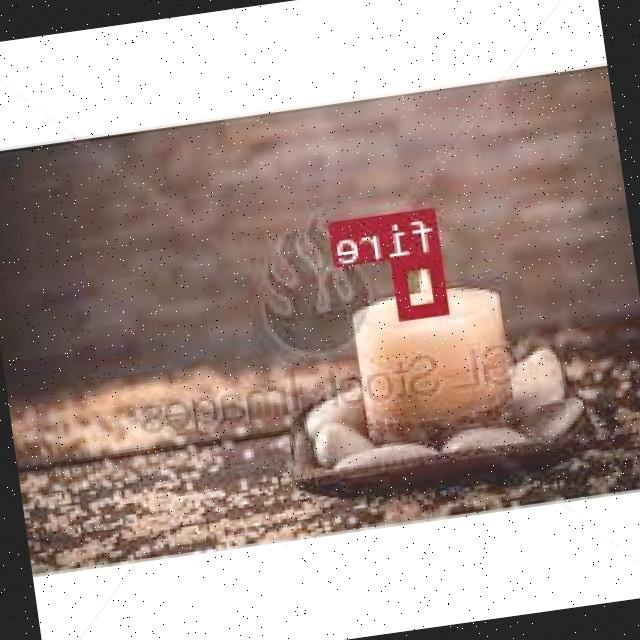fire: (396, 251, 450, 316)
